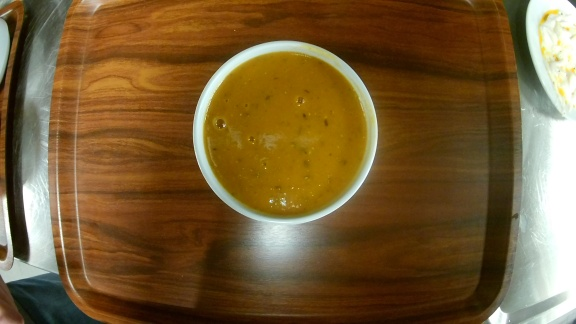ezogelin: (189, 39, 380, 224)
